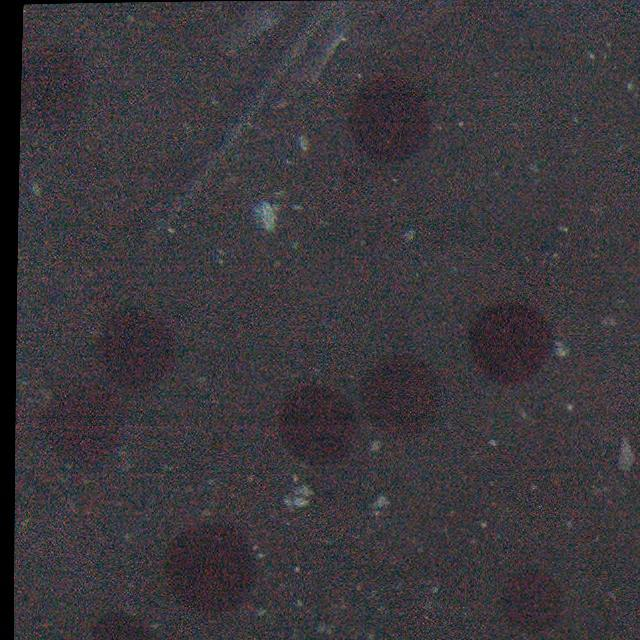skate: (144, 1, 477, 235)
